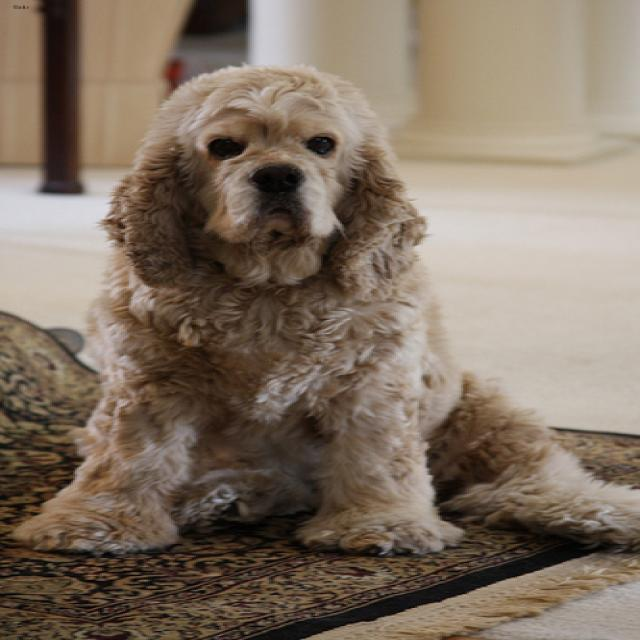dog-english_cocker_spaniel: (2, 54, 636, 564)
